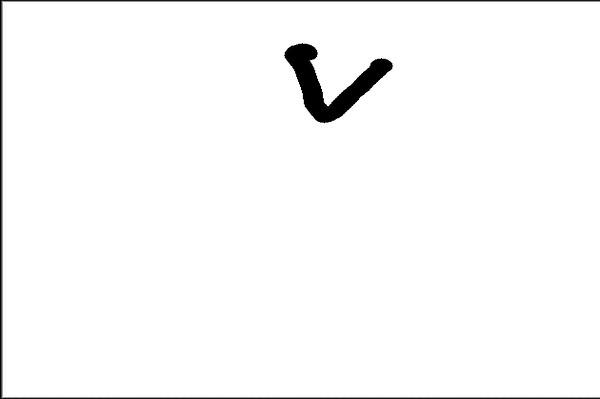V: (271, 31, 399, 129)
